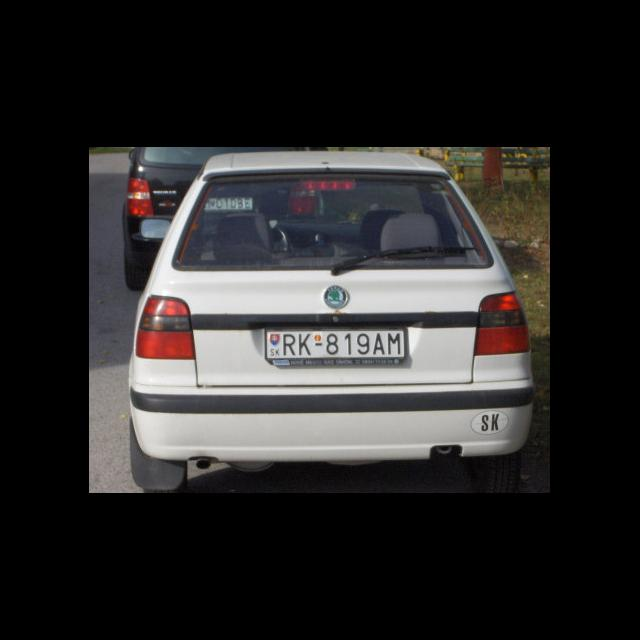Plate: (264, 326, 408, 363)
